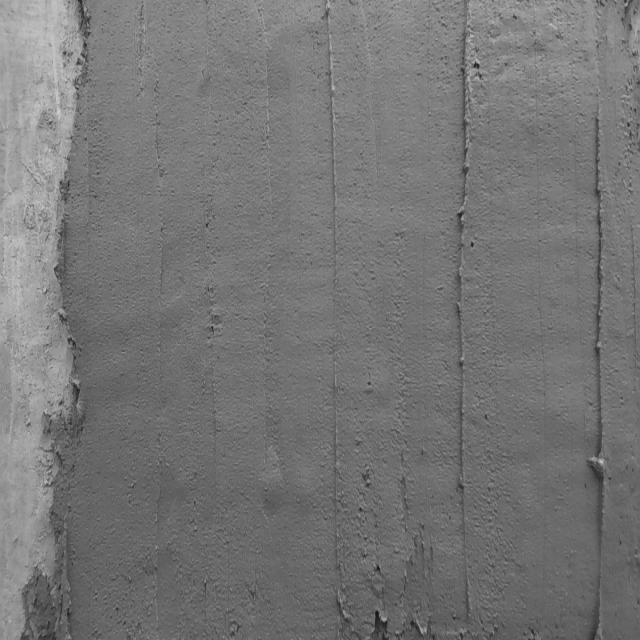trowels marks: (456, 7, 474, 620), (324, 4, 341, 607), (592, 112, 609, 640)
